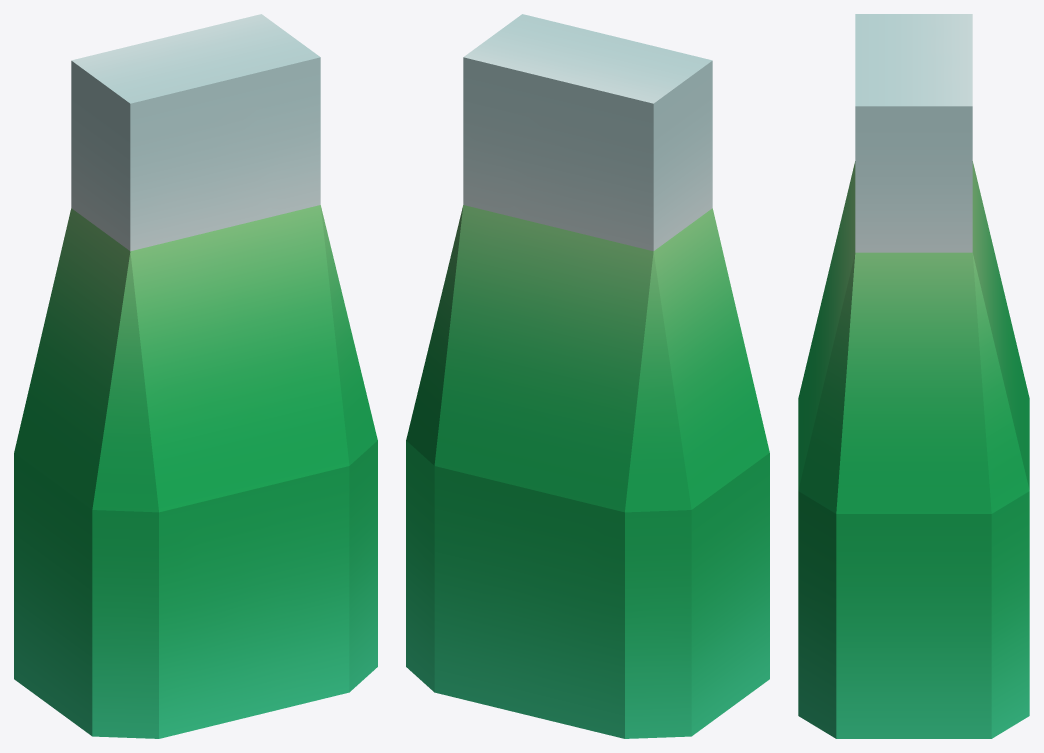
File: giftgoods107a.fbx
The picture shows the model from 3 angles, left to right: view 1: azimuth 30°, elevation 25°; view 2: azimuth 150°, elevation 25°; view 3: azimuth 270°, elevation 25°; orthographic projection.
Parts seen in each view (by area): view 1: giftgoods107a; view 2: giftgoods107a; view 3: giftgoods107a.
Boxes of the visible parts, x1=… form: giftgoods107a: x1=14, y1=14, x2=377, y2=738; giftgoods107a: x1=406, y1=14, x2=769, y2=738; giftgoods107a: x1=798, y1=14, x2=1029, y2=738.
Bounding box in the file's own units: 0.0443 × 0.0911 × 0.0313.
